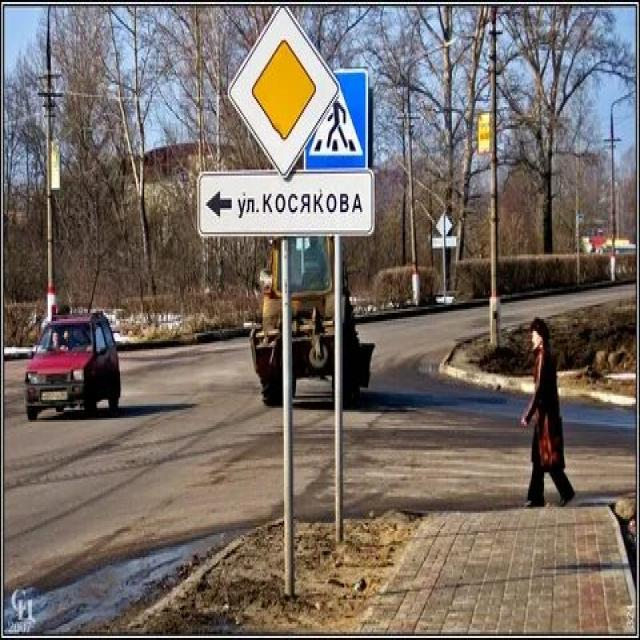signs: (225, 0, 339, 179)
